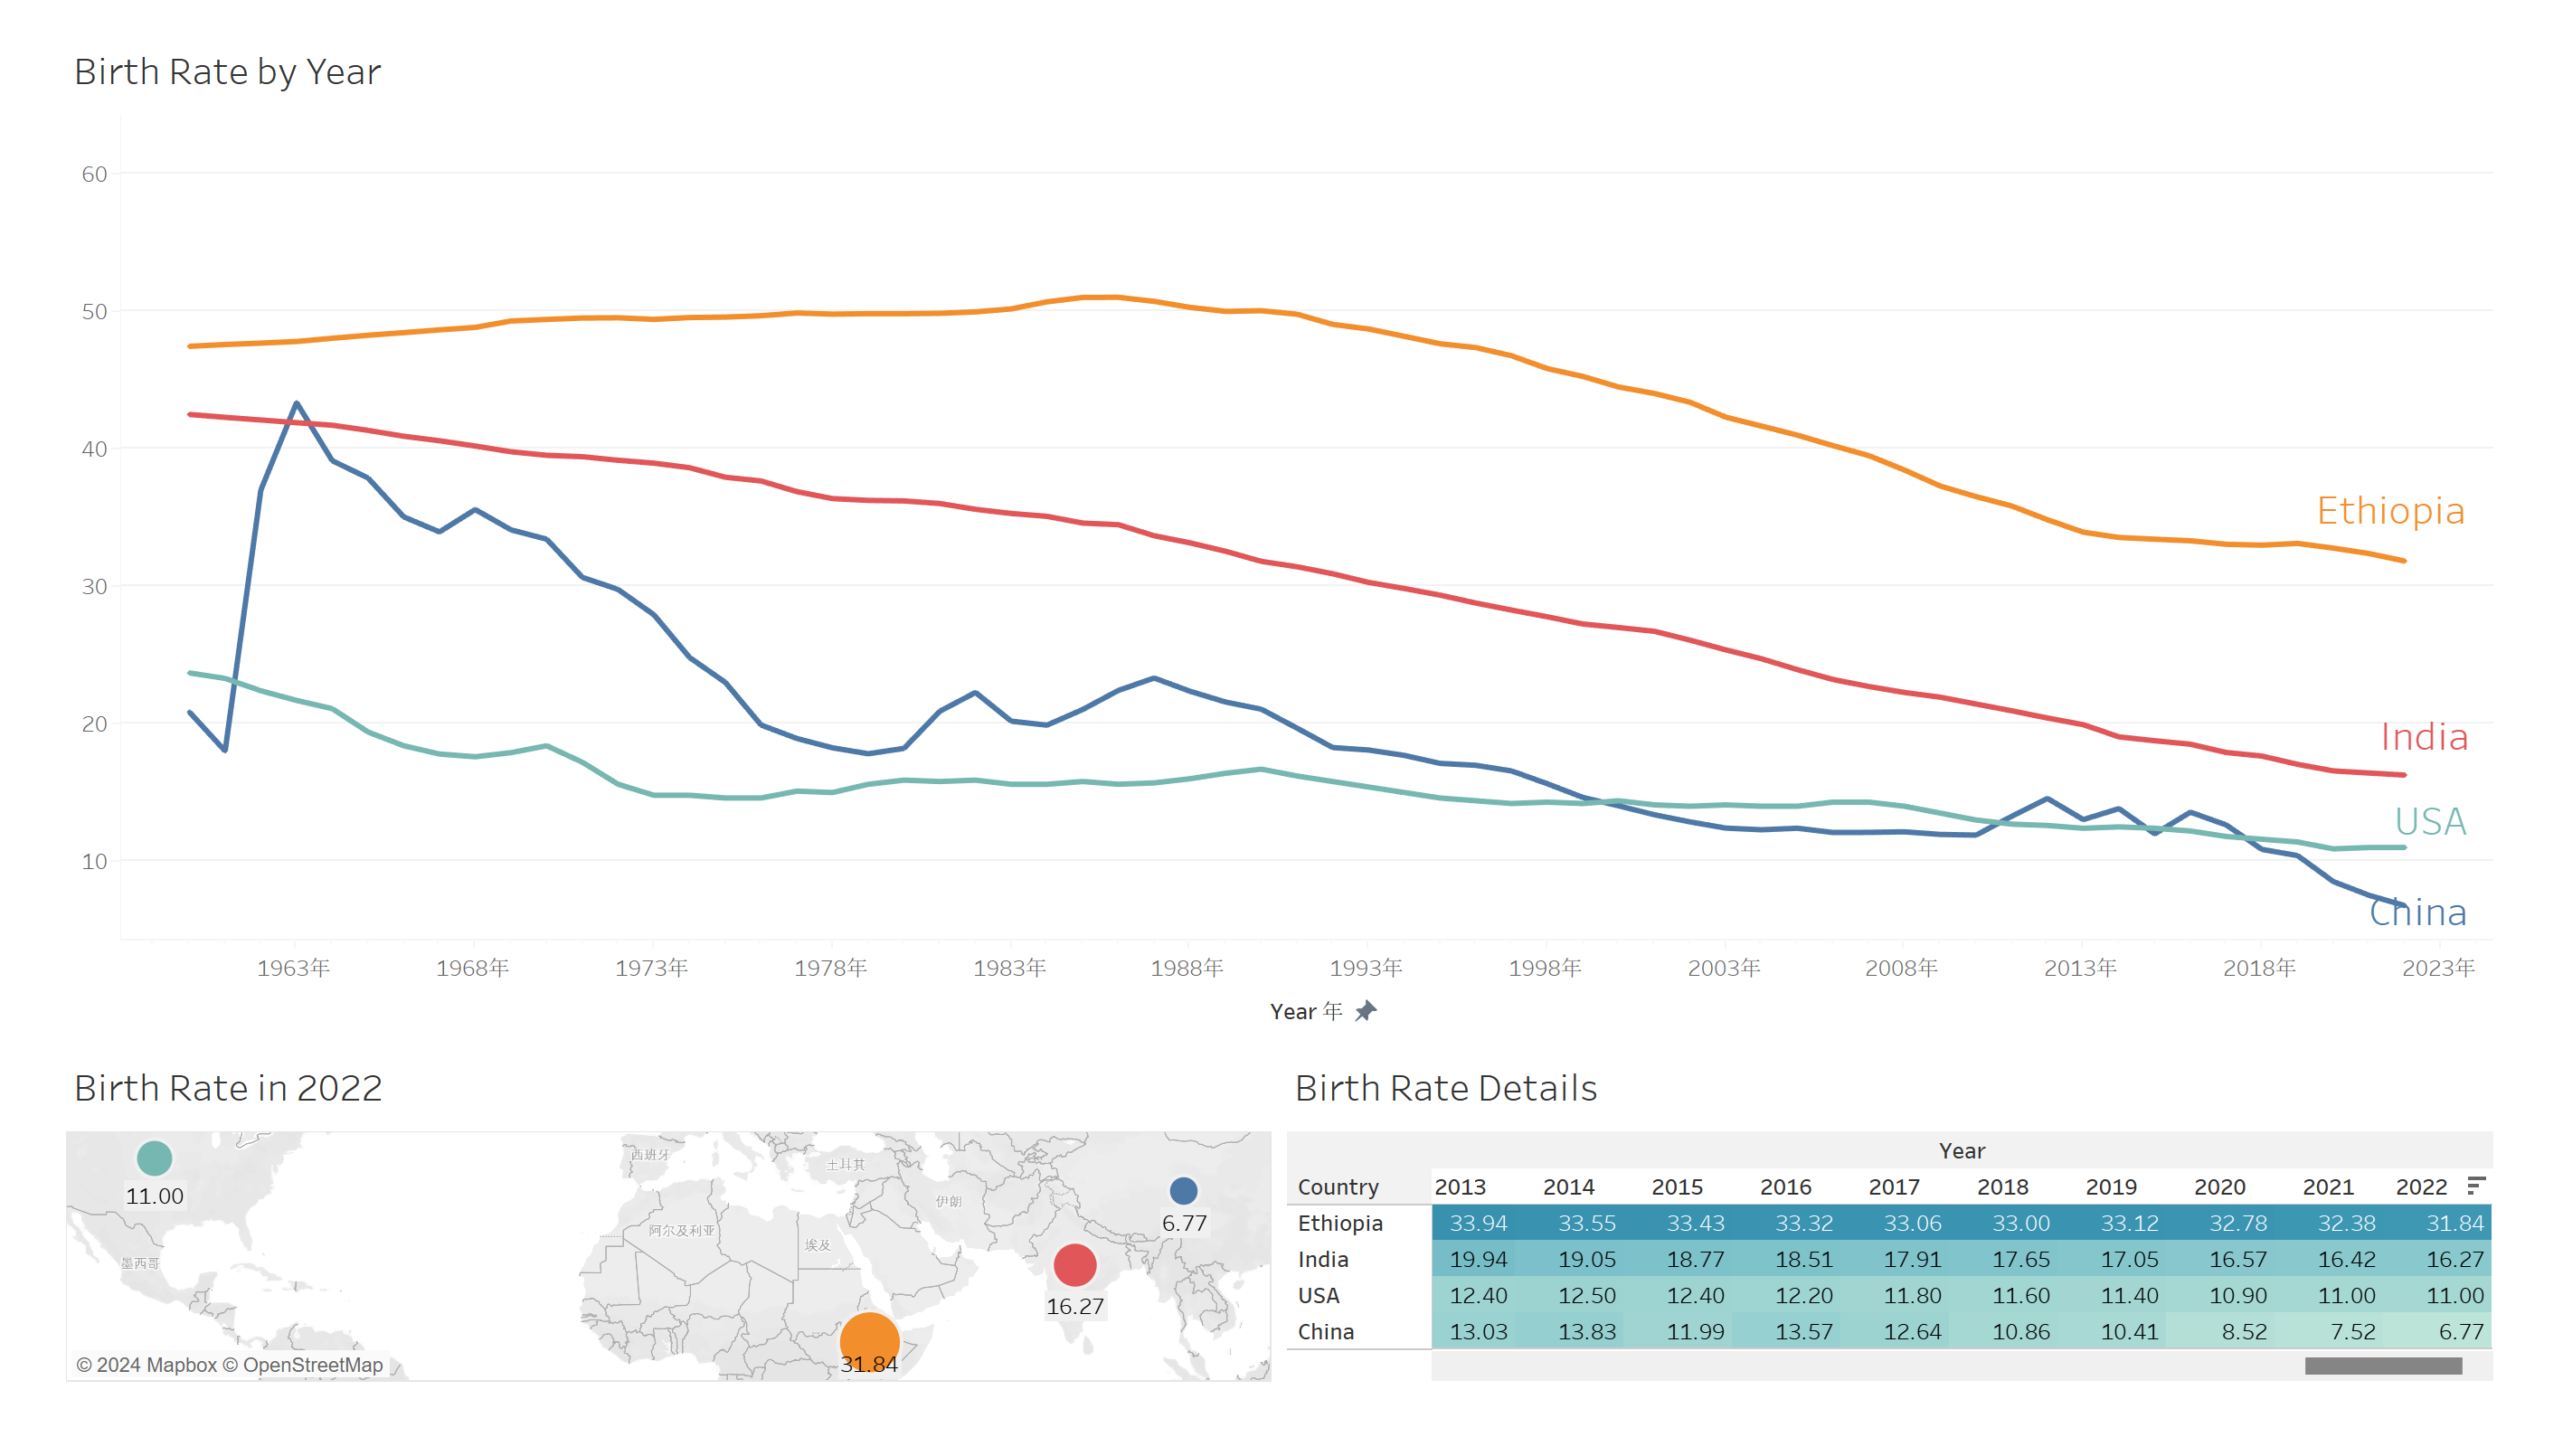

The dashboard page shown, as its layout file describes it:
{"tool":"tableau","page":{"name":"Dashboard 1","canvas":[1366,768],"ordinal":0},"visuals":[{"type":"worksheet","title":"Sheet 1","mark":"Automatic","rows":["Birth rate"],"cols":["Year"],"box":[8,8,1350,562]},{"type":"worksheet","title":"Sheet 2","mark":"Automatic","box":[8,570,675,190]},{"type":"worksheet","title":"Sheet 3","mark":"Square","rows":["Country"],"cols":["Year"],"box":[683,570,675,190]}]}

Visuals, with their boxes in screenshot pixels (x1, y1, x2, y2), scaled from the page's 1366x768 canvas onto the 2563x1456 screenshot:
"Sheet 1" worksheet: locate(15, 15, 2548, 1081)
"Sheet 2" worksheet: locate(15, 1081, 1281, 1441)
"Sheet 3" worksheet (Square marks): locate(1281, 1081, 2548, 1441)
